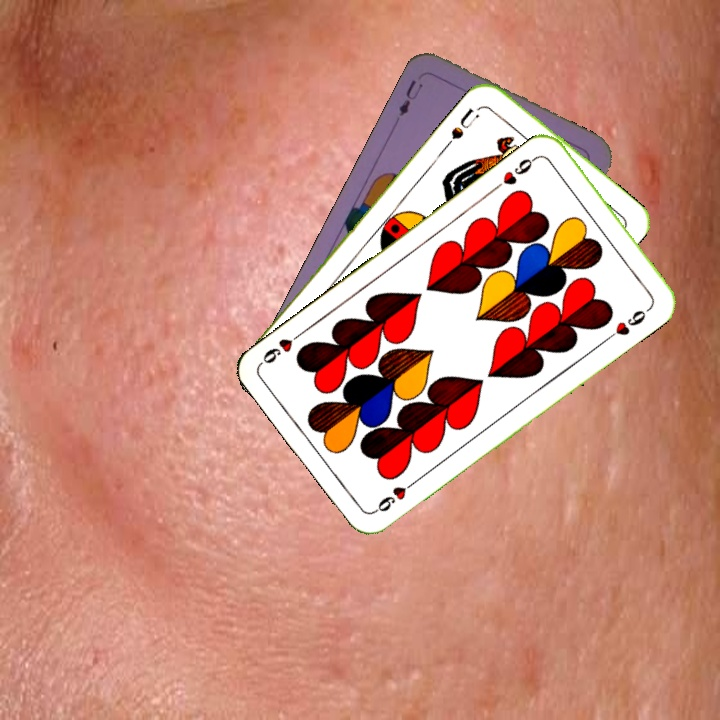EU: (394, 76, 426, 119)
H9: (490, 151, 541, 192), (370, 475, 421, 516)
SU: (442, 101, 487, 149)
